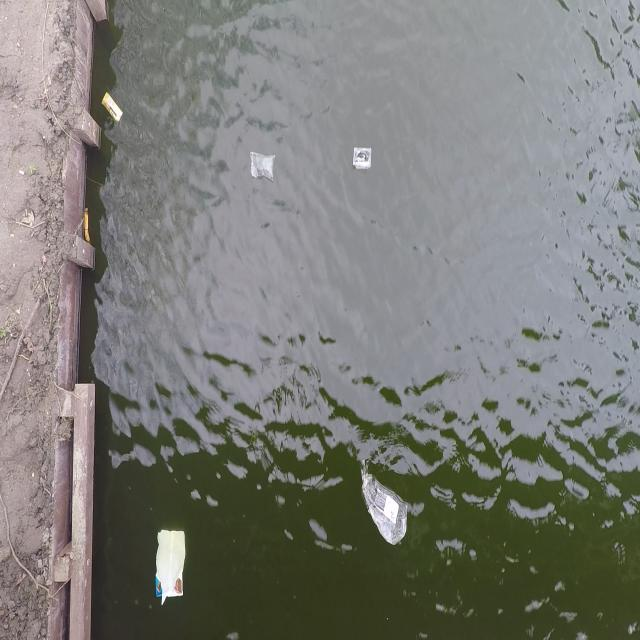Sac plastique: (356, 463, 414, 554), (246, 142, 281, 187)
